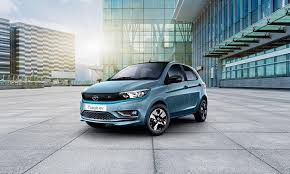Tiago: (78, 58, 211, 140)
